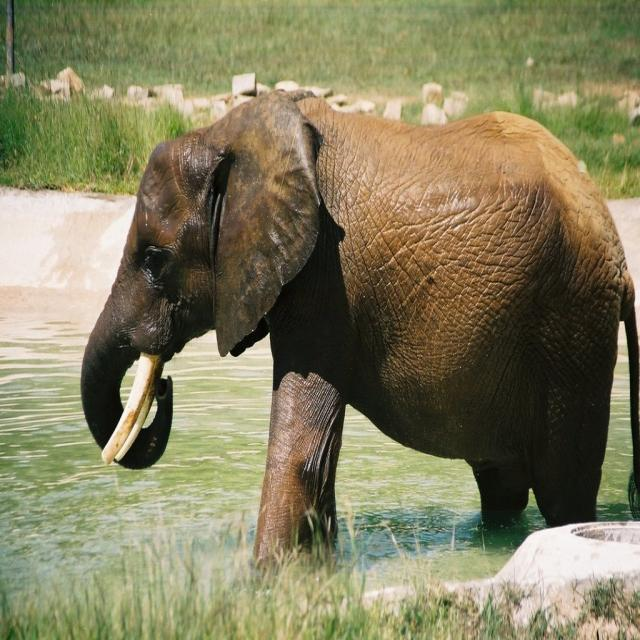Elephant: (79, 87, 639, 577)
